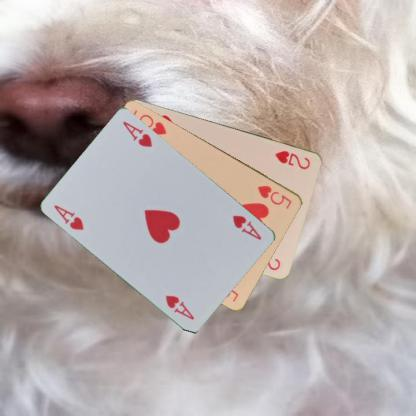2h: (273, 147, 312, 170)
5h: (255, 182, 293, 210)
Ah: (52, 202, 86, 232), (230, 212, 263, 242)
